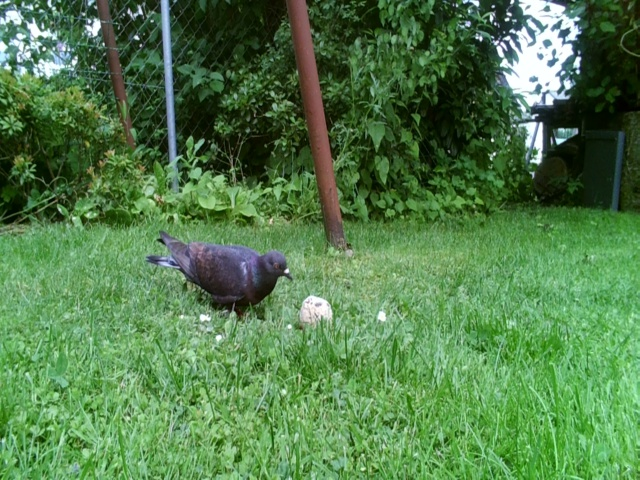Pigeon: (144, 224, 294, 324)
